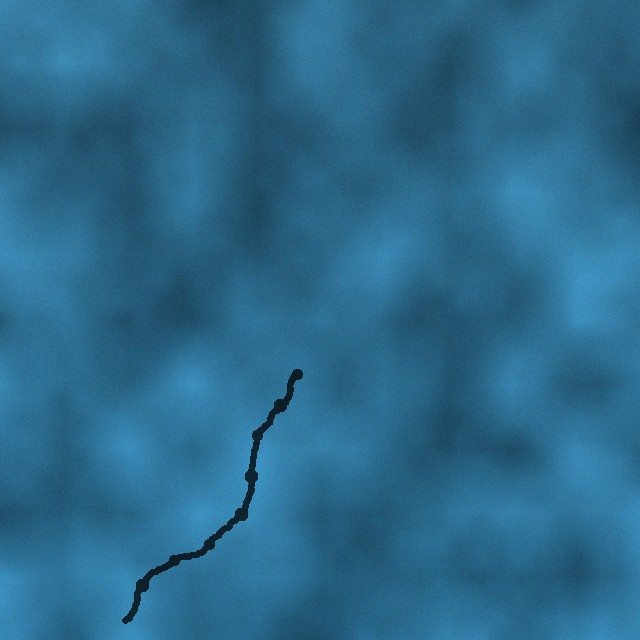crack: (118, 368, 303, 627)
